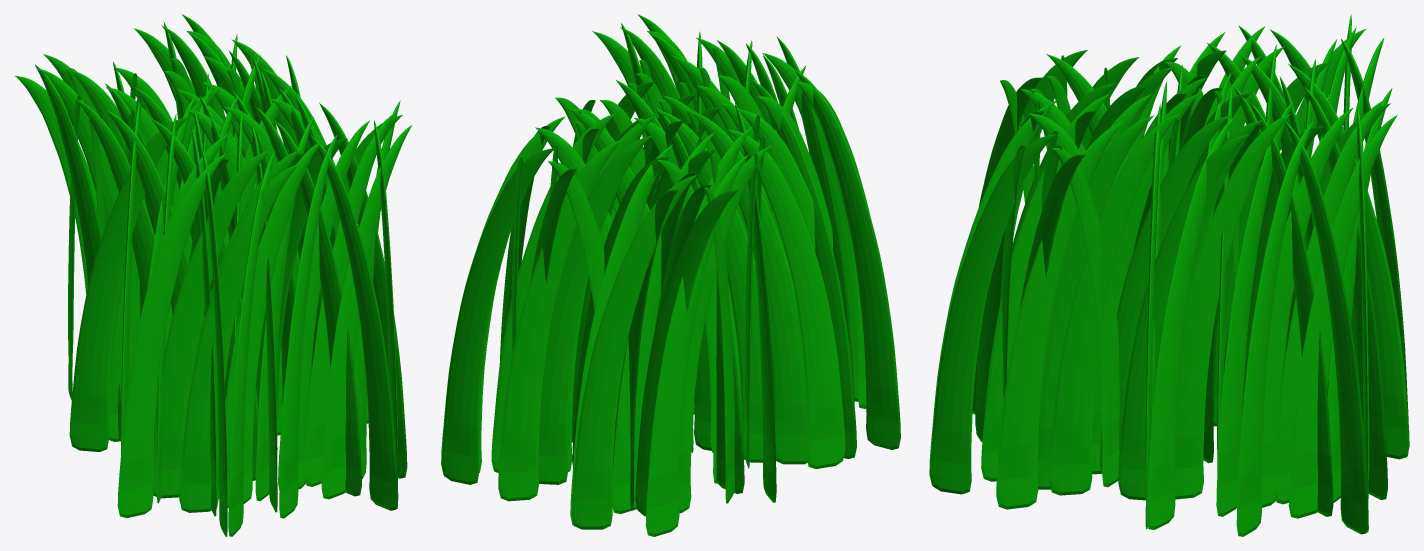
The picture shows the model from 3 angles, left to right: view 1: azimuth 30°, elevation 25°; view 2: azimuth 150°, elevation 25°; view 3: azimuth 270°, elevation 25°; orthographic projection. The views are drawn at different scales.
Parts seen in each view (by area): view 1: Plane; view 2: Plane; view 3: Plane.
Boxes of the visible parts, x1,y1,x2,y2 form: Plane: [15, 14, 411, 536]; Plane: [441, 14, 900, 536]; Plane: [929, 14, 1409, 536].
Bounding box in the file's own units: 176 × 184 × 214.
